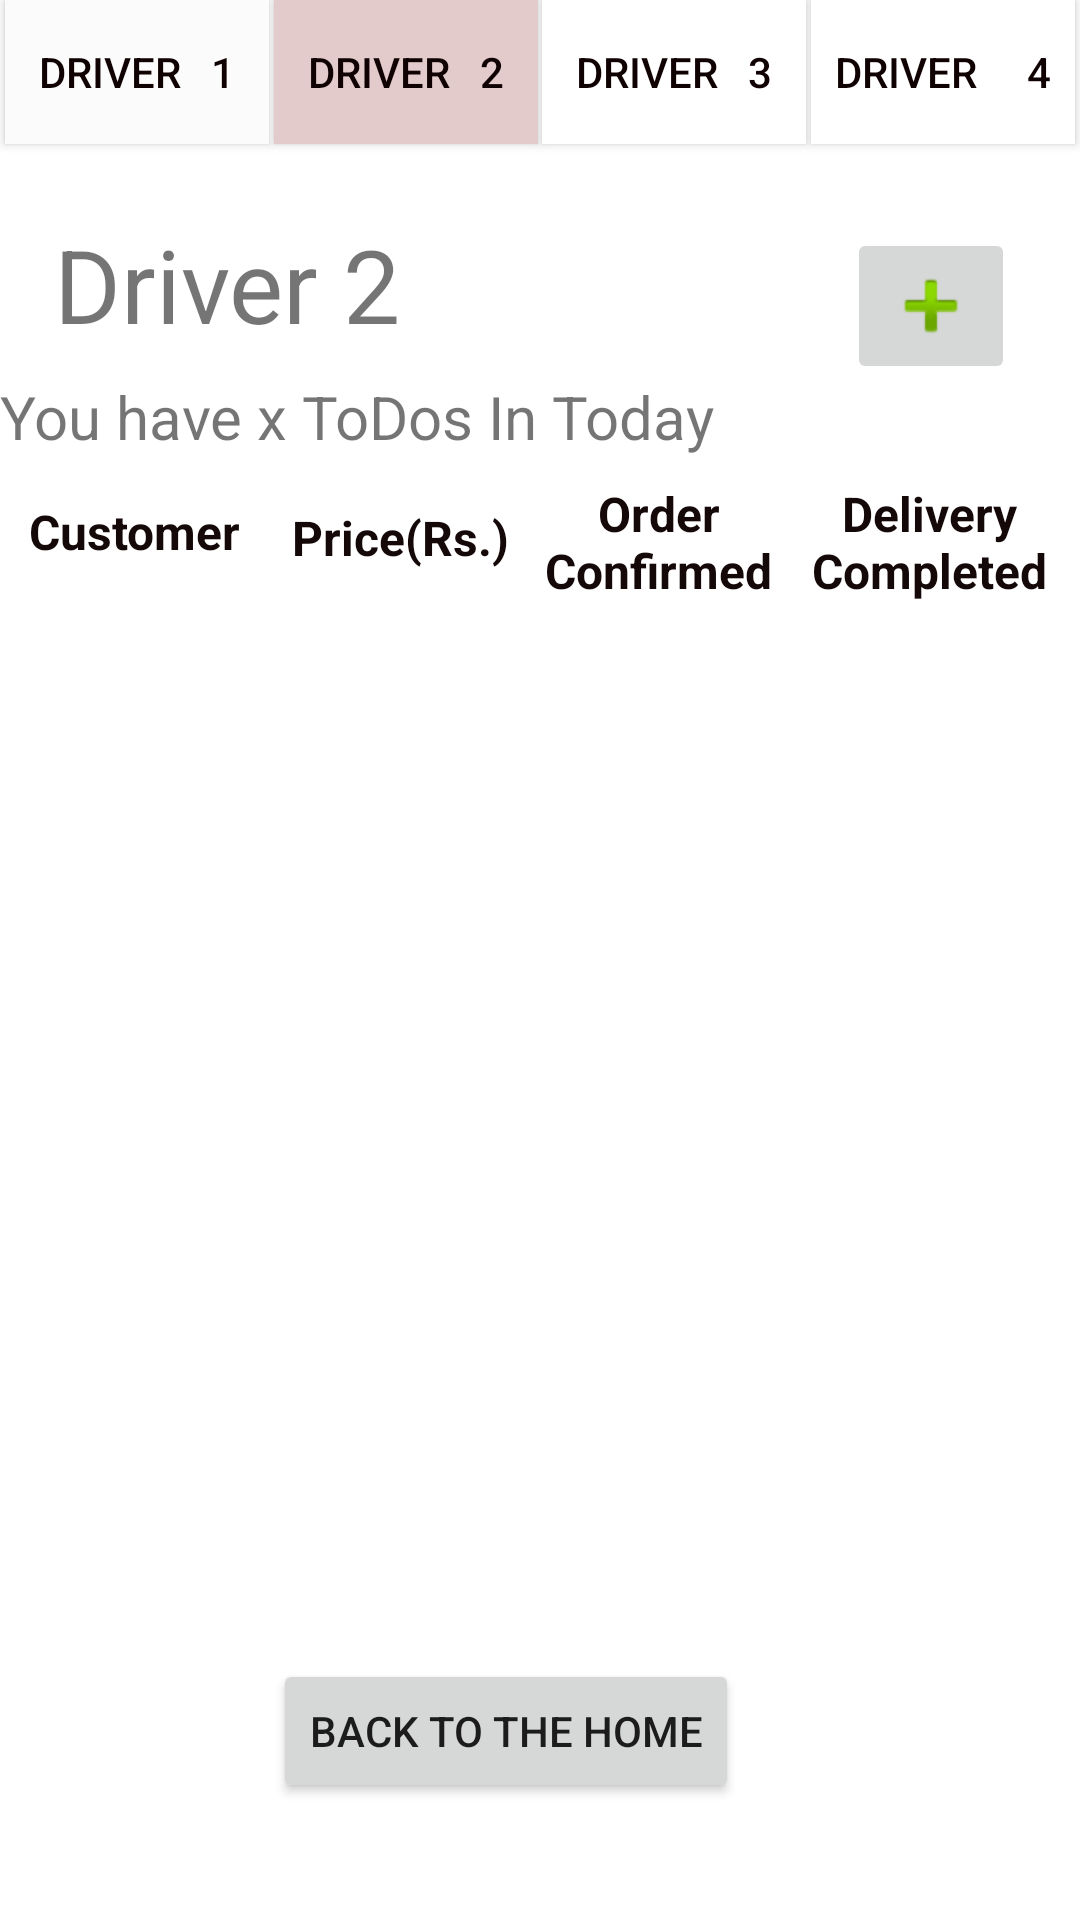

Locate icon controls on the screen. Image size 1080px x 1920px, boxes as detection(x1, y1, x2, y2).
add: detection(859, 246, 1003, 366)
